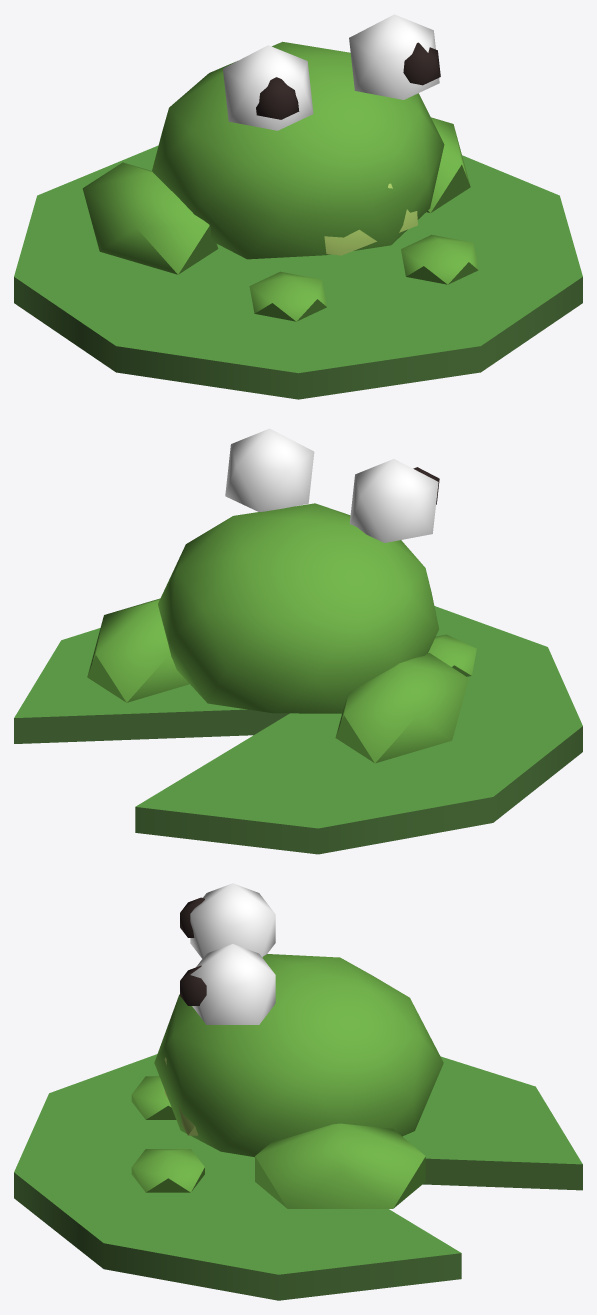
Rendered from frog.glb.
3 renders of one model, top to bottom at view 1: azimuth 30°, elevation 25°; view 2: azimuth 150°, elevation 25°; view 3: azimuth 270°, elevation 25°, orthographic.
Visible parts, largest first — view 1: frog; view 2: frog; view 3: frog.
Boxes of the visible parts, <box> form: frog: <box>14,14,582,399</box>; frog: <box>14,428,582,854</box>; frog: <box>14,883,582,1300</box>.
Size of the model in its own units: 0.3903 by 0.205 by 0.3969.
1 material, 1 textured.
